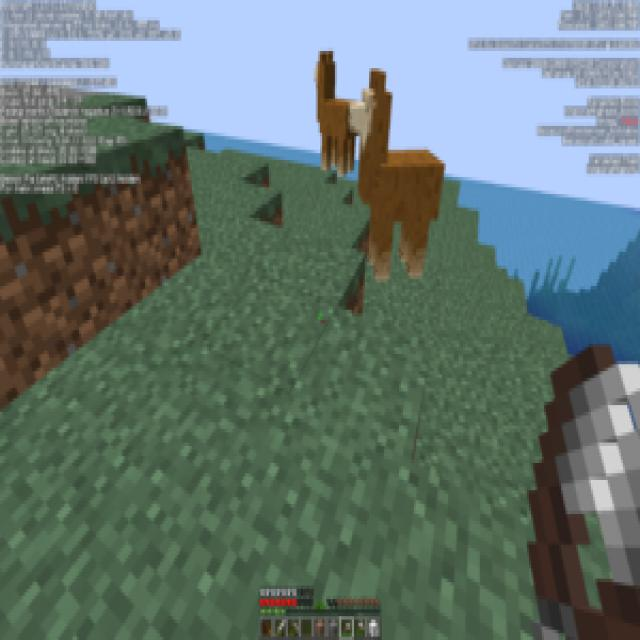Llama: (349, 60, 449, 291)
